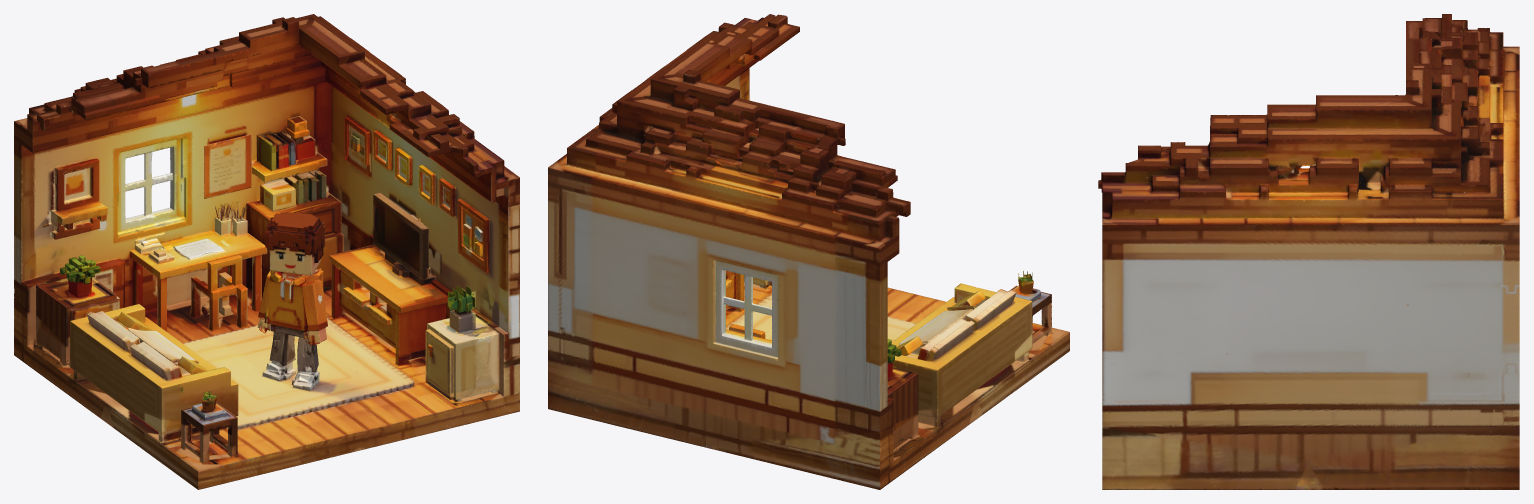
File: Meshy_AI_Cozy_Voxel_Living_Roo_0409084450_texture-v1.glb
The picture shows the model from 3 angles, left to right: view 1: azimuth 30°, elevation 25°; view 2: azimuth 150°, elevation 25°; view 3: azimuth 270°, elevation 25°; orthographic projection. The views are drawn at different scales.
Bounding box in the file's own units: 1.9 × 1.77 × 1.9.
1 material, 1 textured.
